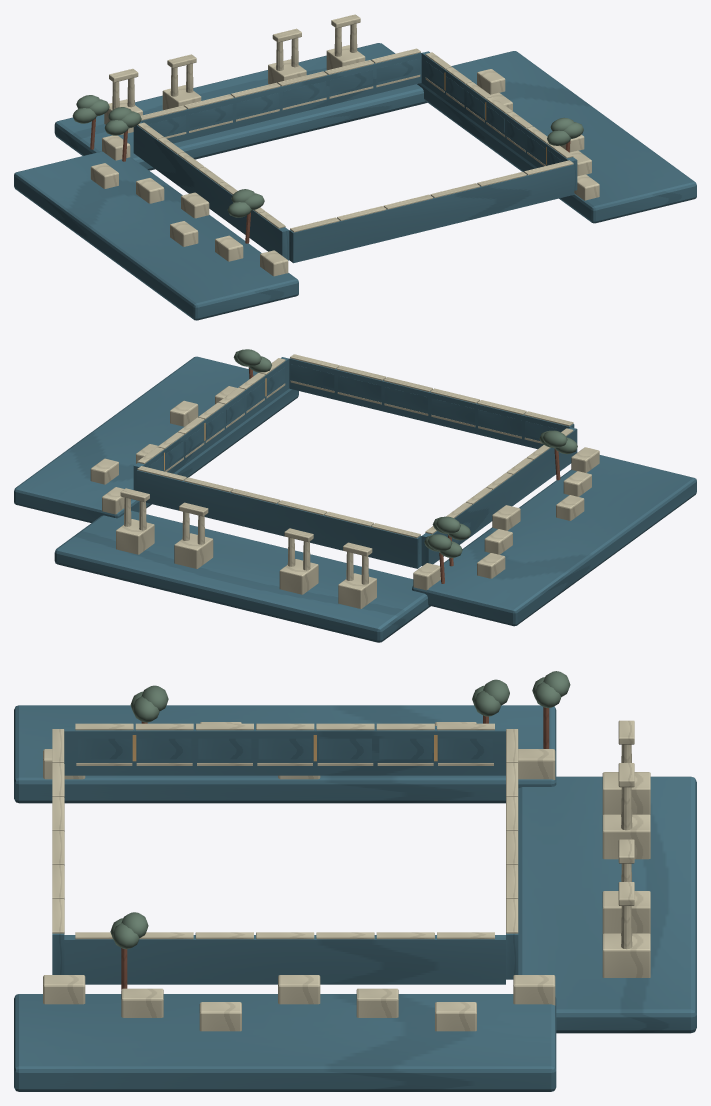
The model's file is surround.glb.
3 views of the same model, one above another, from view 1: azimuth 30°, elevation 25°; view 2: azimuth 150°, elevation 25°; view 3: azimuth 270°, elevation 25° (orthographic). The views are drawn at different scales.
Parts seen in each view (by area): view 1: surround_solid; view 2: surround_solid; view 3: surround_solid.
Part boxes in pixels (x1,y1,x2,y2): surround_solid: (14,14,696,320); surround_solid: (14,349,696,642); surround_solid: (14,671,696,1091).
Size of the model in its own units: 43 by 6.35 by 34.
5 materials, 3 textured.
